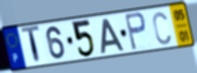5: (70, 18, 97, 59)
6: (46, 25, 67, 61)
A: (100, 17, 126, 55)
C: (151, 10, 172, 46)
P: (123, 11, 148, 52)
T: (20, 24, 42, 66)
